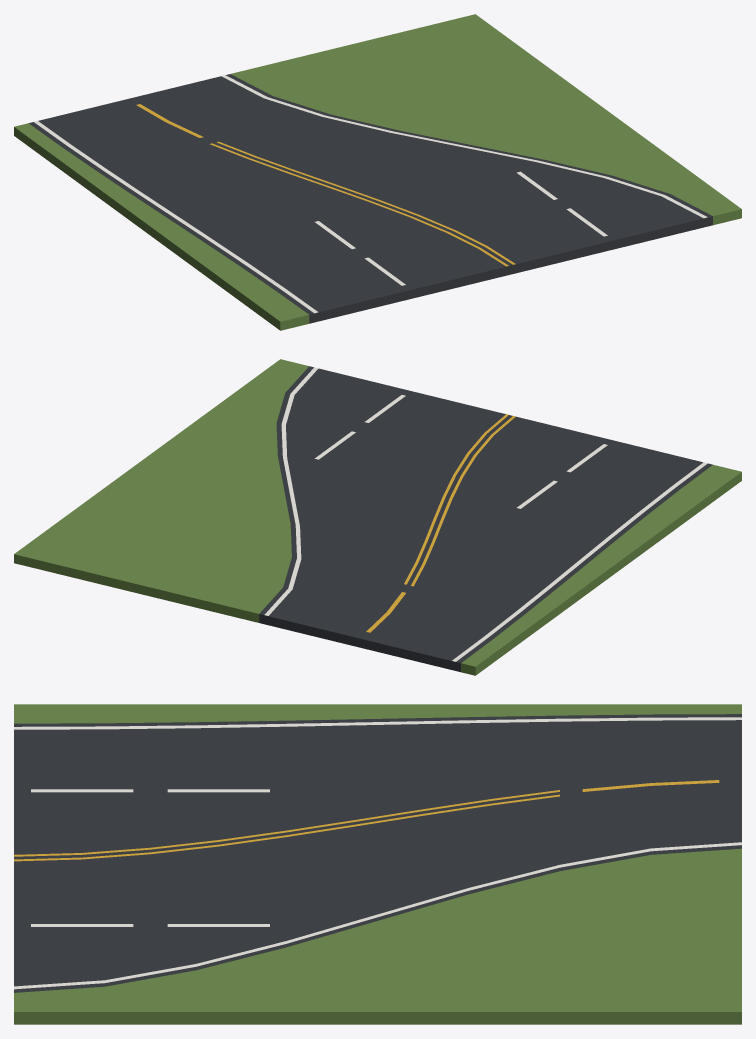
Rendered from Transition_2Lane_To_4Lane_NoSidewalk_16m.glb.
The picture shows the model from 3 angles, top to bottom: view 1: azimuth 30°, elevation 25°; view 2: azimuth 150°, elevation 25°; view 3: azimuth 270°, elevation 25°; orthographic projection. The views are drawn at different scales.
Parts seen in each view (by area): view 1: Transition_2Lane_To_4Lane_NoSidewalk_16m_Asphalt, Transition_2Lane_To_4Lane_NoSidewalk_16m_Grass-edge, Transition_2Lane_To_4Lane_NoSidewalk_16m_PaintWhite, Transition_2Lane_To_4Lane_NoSidewalk_16m_PaintYellow; view 2: Transition_2Lane_To_4Lane_NoSidewalk_16m_Asphalt, Transition_2Lane_To_4Lane_NoSidewalk_16m_Grass-edge, Transition_2Lane_To_4Lane_NoSidewalk_16m_PaintWhite, Transition_2Lane_To_4Lane_NoSidewalk_16m_PaintYellow; view 3: Transition_2Lane_To_4Lane_NoSidewalk_16m_Asphalt, Transition_2Lane_To_4Lane_NoSidewalk_16m_Grass-edge, Transition_2Lane_To_4Lane_NoSidewalk_16m_PaintWhite, Transition_2Lane_To_4Lane_NoSidewalk_16m_PaintYellow.
Part boxes in pixels (x1,y1,x2,y2): Transition_2Lane_To_4Lane_NoSidewalk_16m_Asphalt: [28, 74, 712, 323]; Transition_2Lane_To_4Lane_NoSidewalk_16m_Grass-edge: [14, 14, 741, 330]; Transition_2Lane_To_4Lane_NoSidewalk_16m_PaintWhite: [34, 75, 707, 313]; Transition_2Lane_To_4Lane_NoSidewalk_16m_PaintYellow: [136, 104, 515, 266]; Transition_2Lane_To_4Lane_NoSidewalk_16m_Asphalt: [259, 366, 712, 672]; Transition_2Lane_To_4Lane_NoSidewalk_16m_Grass-edge: [14, 359, 741, 675]; Transition_2Lane_To_4Lane_NoSidewalk_16m_PaintWhite: [264, 367, 707, 661]; Transition_2Lane_To_4Lane_NoSidewalk_16m_PaintYellow: [366, 414, 515, 632]; Transition_2Lane_To_4Lane_NoSidewalk_16m_Asphalt: [14, 714, 741, 992]; Transition_2Lane_To_4Lane_NoSidewalk_16m_Grass-edge: [14, 704, 741, 1024]; Transition_2Lane_To_4Lane_NoSidewalk_16m_PaintWhite: [14, 717, 741, 989]; Transition_2Lane_To_4Lane_NoSidewalk_16m_PaintYellow: [14, 780, 719, 861].
Bounding box in the file's own units: 16 × 0.305 × 16.
